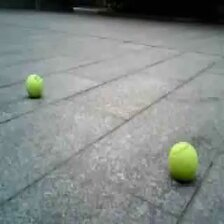tennis: (168, 142, 197, 180), (26, 75, 43, 96)
